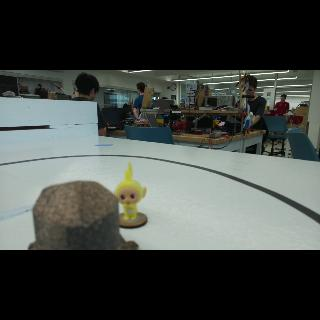teletubby: (115, 162, 146, 220)
